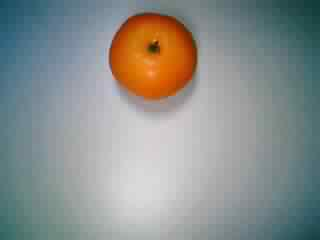orange: (107, 11, 202, 105)
